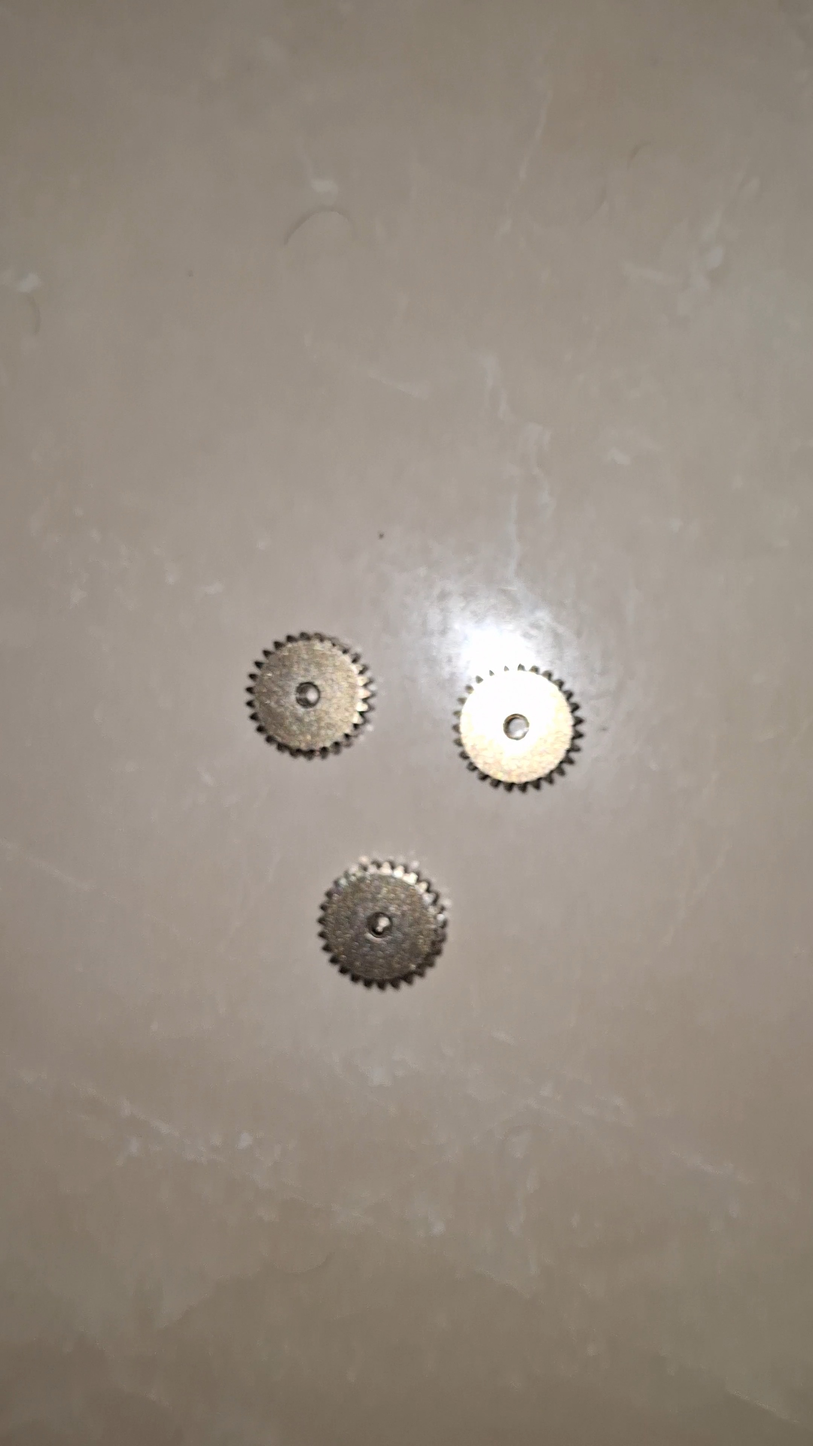spur gear: (319, 859, 446, 988), (455, 665, 582, 790), (247, 633, 373, 757)
